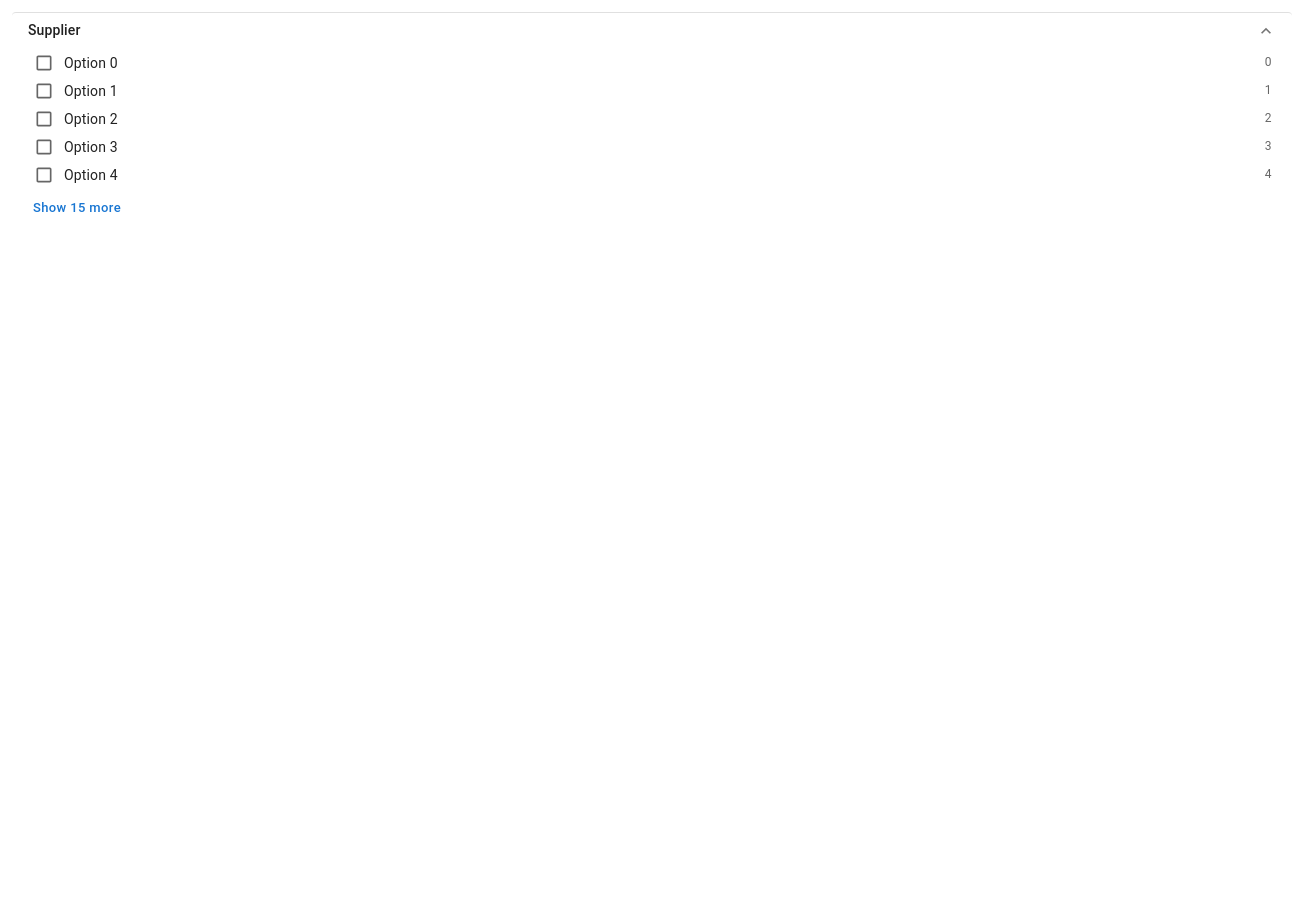
Scenario: FacetGroup › truncates past initialLimit with a Show more button
Expected: the text "Option 0" is shown, left=64, top=55, right=118, bottom=71
Expected: the text "Option 6" is not shown
Click the button "Show 15 more".
click(77, 208)  # box left=28, top=193, right=126, bottom=224
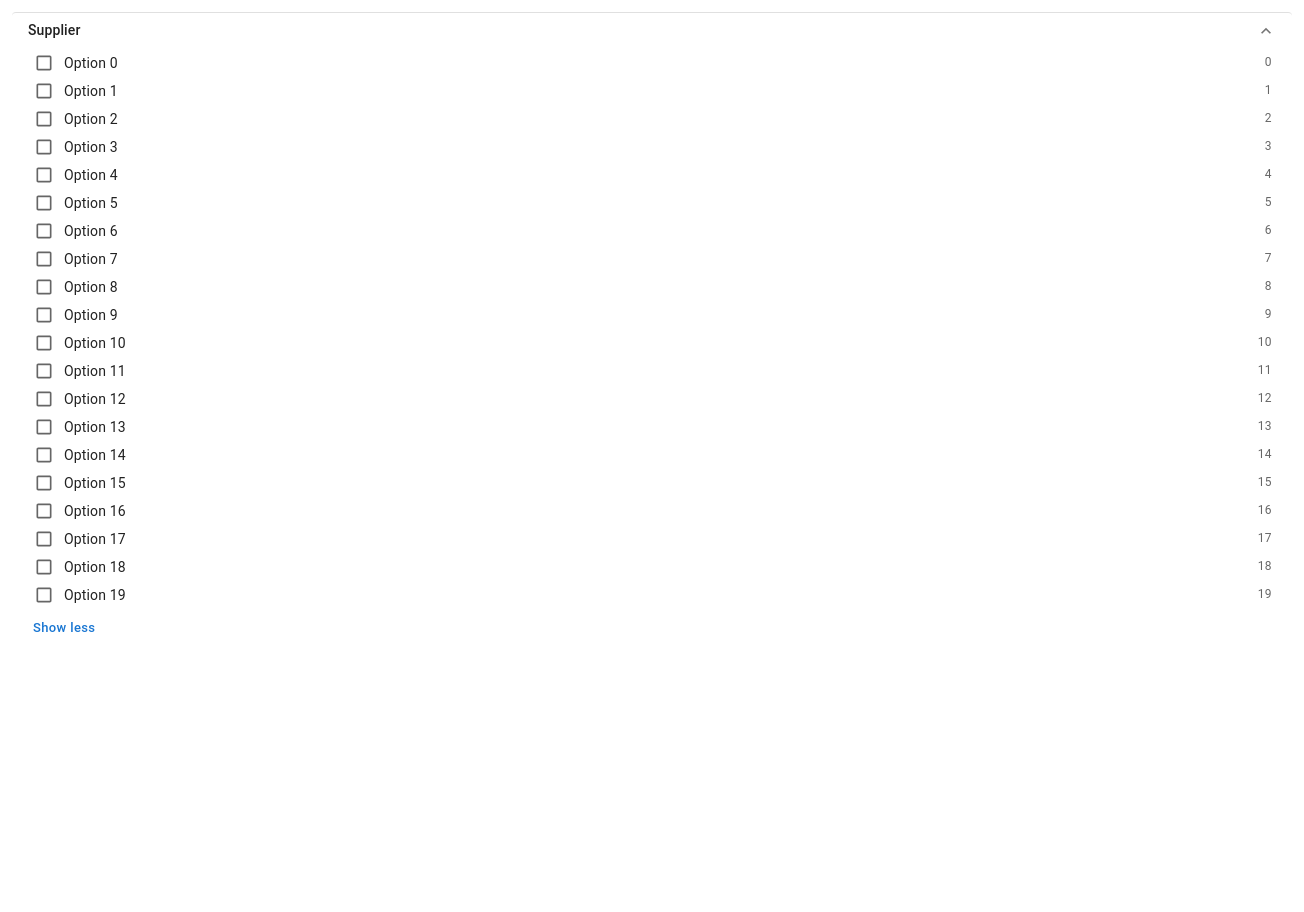
Expected: the text "Option 6" is shown, left=64, top=223, right=118, bottom=239
